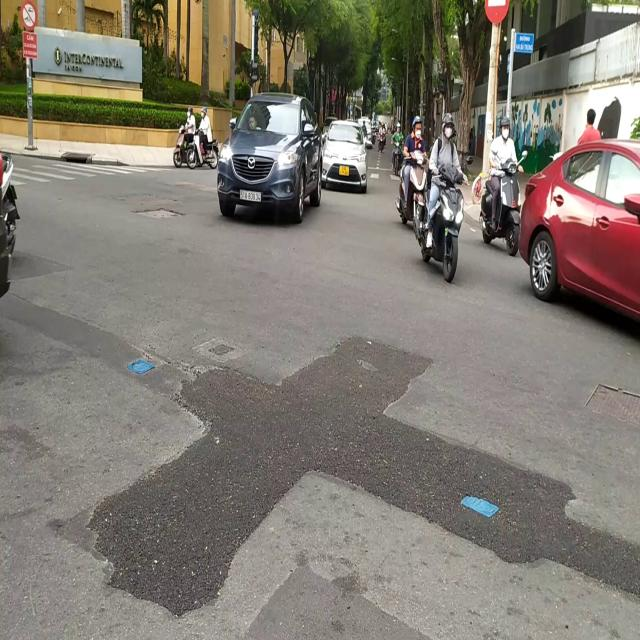bien_trang: (238, 186, 261, 204)
